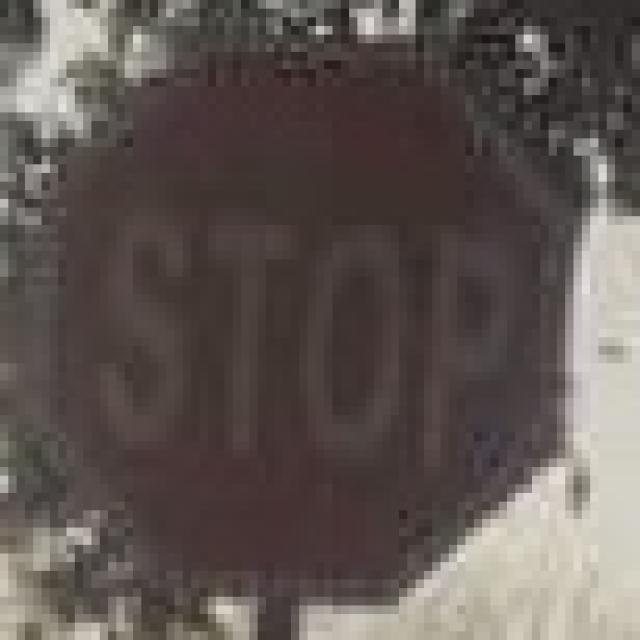stop: (33, 42, 579, 607)
